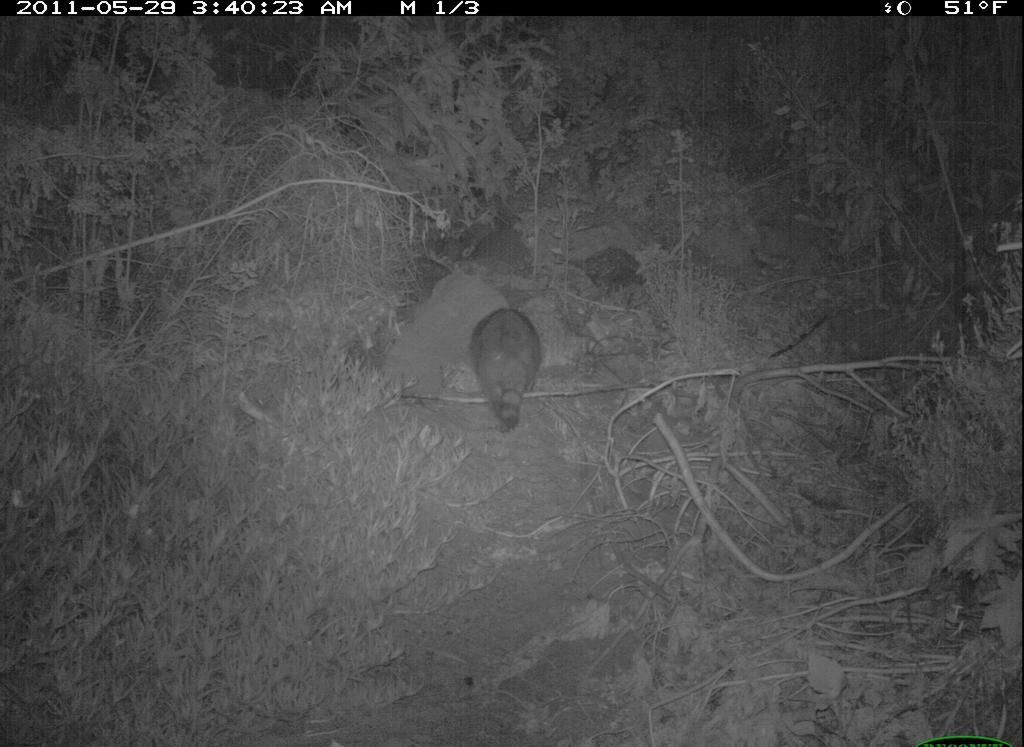raccoon: (466, 303, 548, 436)
